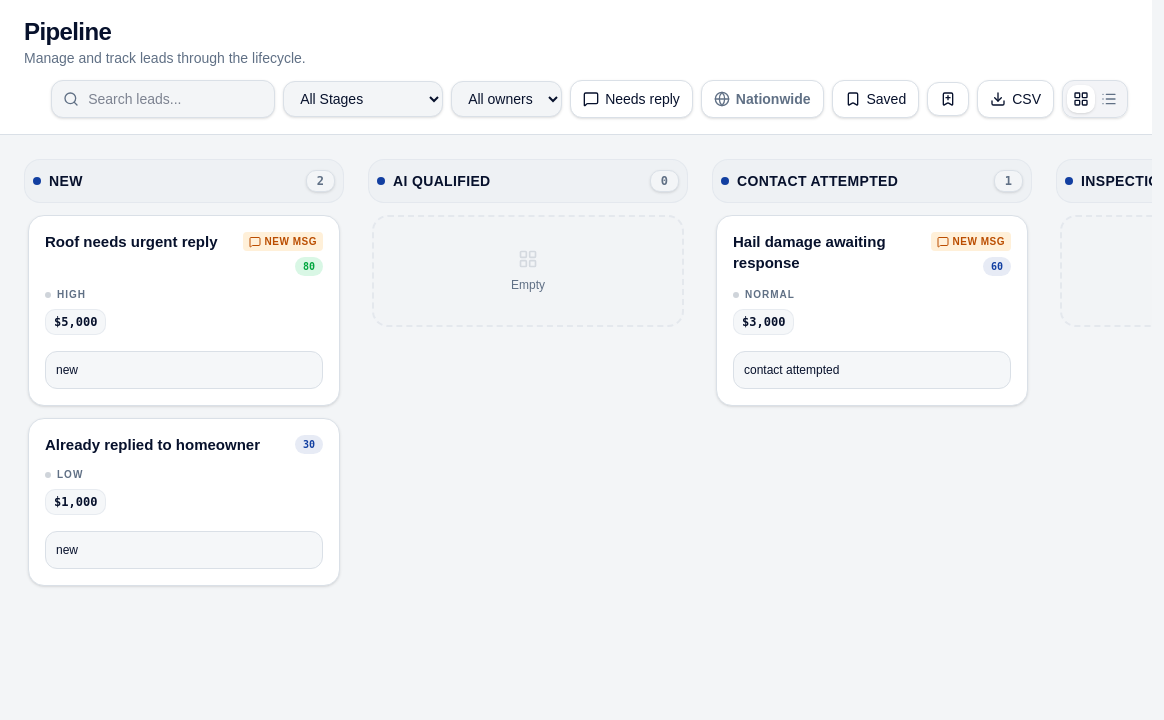
Pipeline "Needs reply" filter › board view › restores all leads after toggling back OFF
Expected: the link "Roof needs urgent reply" is shown, [45, 232, 218, 253]
Click the button with test id "needs-reply-filter": [631, 99] box [570, 80, 693, 118]
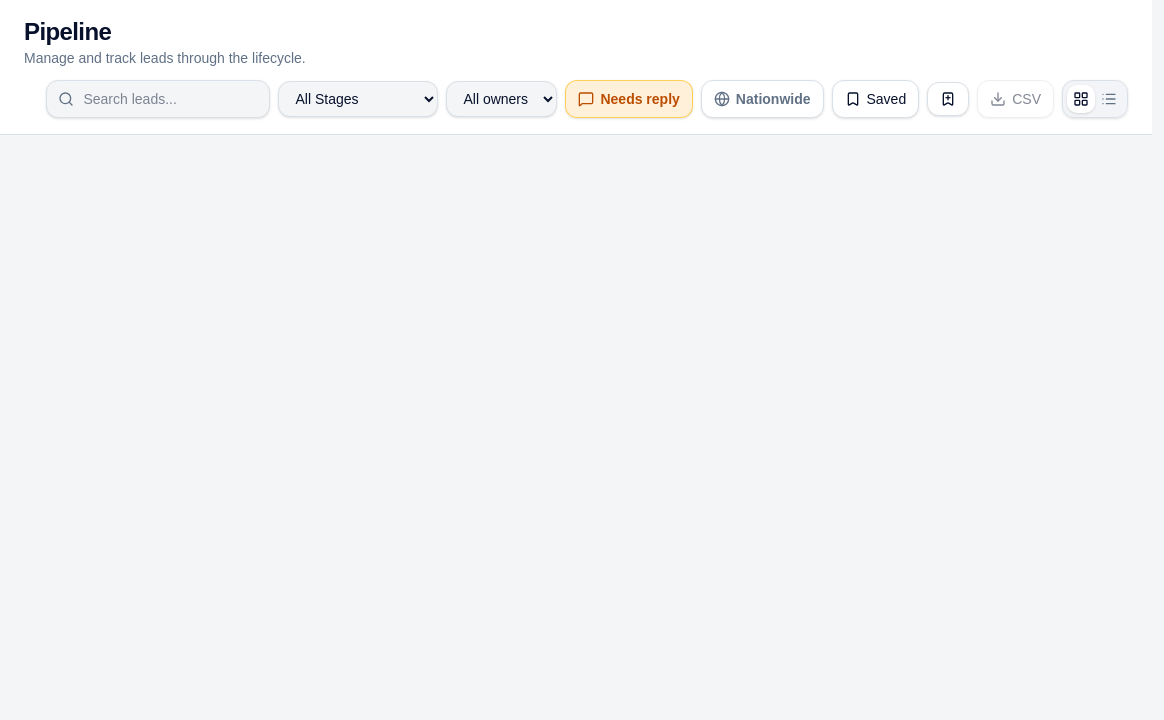
Expected: the link "Already replied to homeowner" is gone
Click the button with test id "needs-reply-filter": [629, 99] box [566, 80, 693, 118]
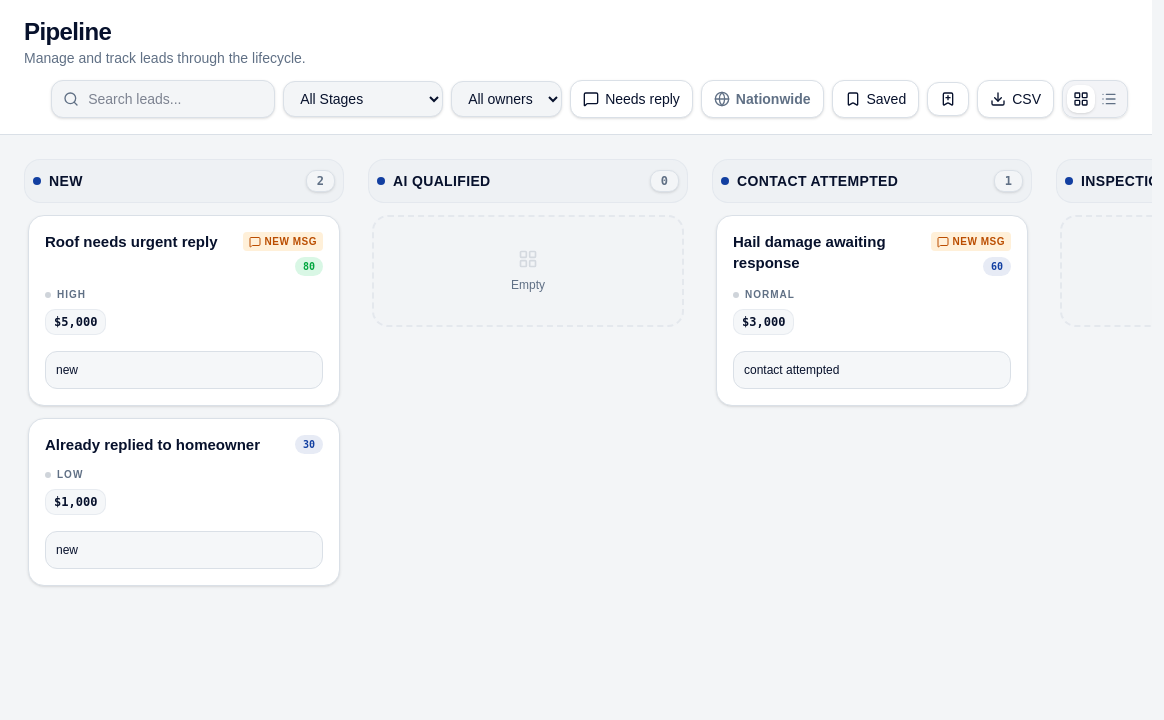
Expected: the link "Already replied to homeowner" is shown, [45, 435, 260, 456]
Expected: the link "Roof needs urgent reply" is shown, [45, 232, 218, 253]
Expected: the link "Hail damage awaiting response" is shown, [733, 233, 886, 271]
